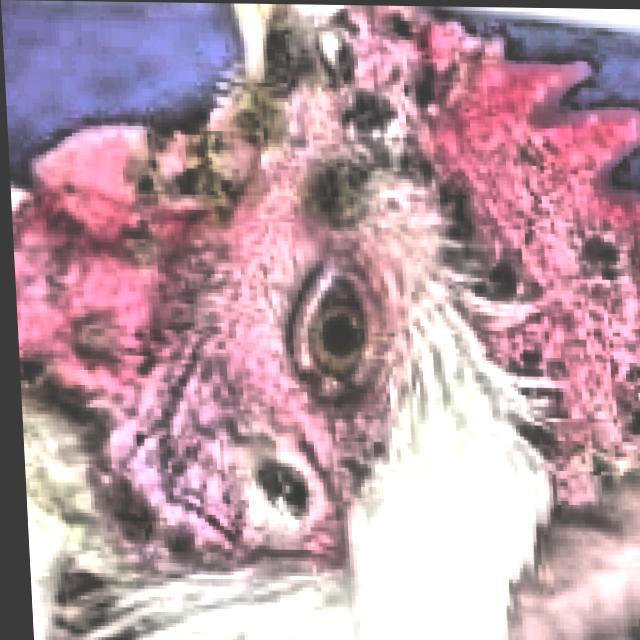Fowlpox: (83, 1, 640, 519)
